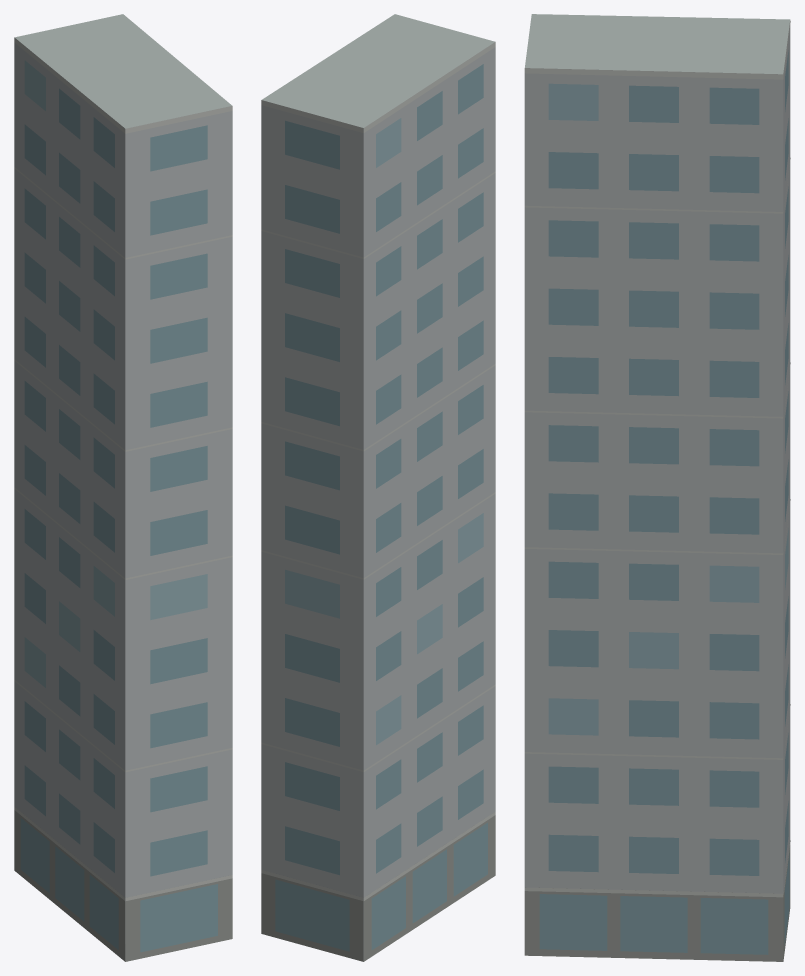
Rendered from survey-upis-32957007.glb.
The picture shows the model from 3 angles, left to right: view 1: azimuth 30°, elevation 25°; view 2: azimuth 150°, elevation 25°; view 3: azimuth 270°, elevation 25°; orthographic projection. The views are drawn at different scales.
Visible parts, largest first — view 1: survey-upis-32957007.tmp; view 2: survey-upis-32957007.tmp; view 3: survey-upis-32957007.tmp.
Boxes of the visible parts, x1=… form: survey-upis-32957007.tmp: x1=14, y1=14, x2=232, y2=961; survey-upis-32957007.tmp: x1=261, y1=14, x2=495, y2=961; survey-upis-32957007.tmp: x1=524, y1=14, x2=790, y2=961.
Size of the model in its own units: 5.8 by 39.65 by 10.77.
